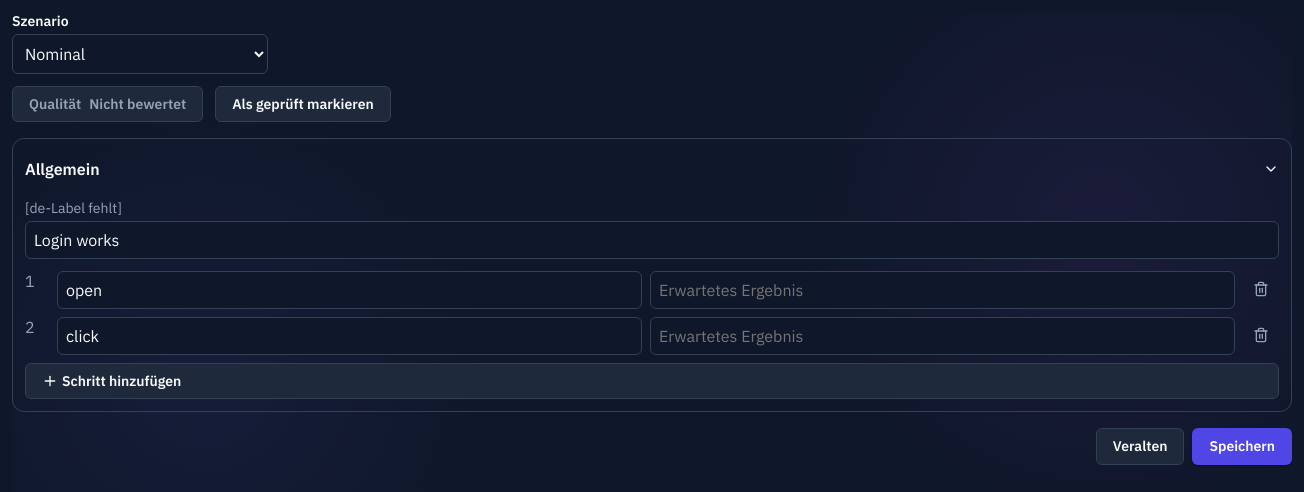
Scenario: TestCaseArtifactForm › announces a failed review without hiding the button (#424)
Step 1. Click the button with test id "tc-review-button" → (303, 104), box left=215, top=86, right=391, bottom=122
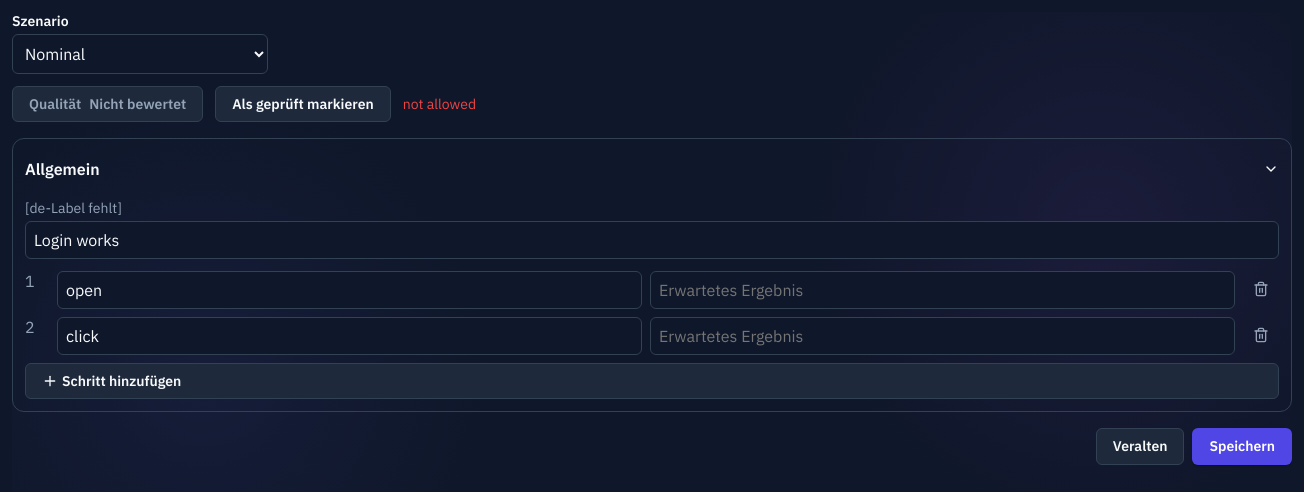
Expected: the message with test id "tc-review-error" reads "not allowed", left=403, top=95, right=476, bottom=113
